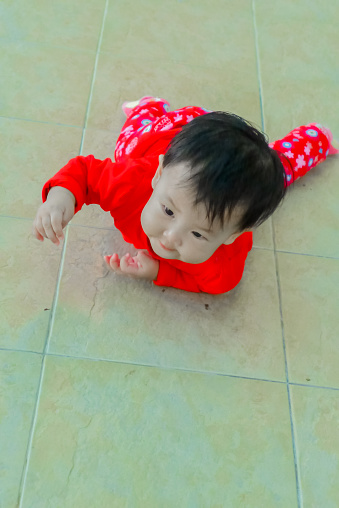deitado: (1, 98, 301, 346)
